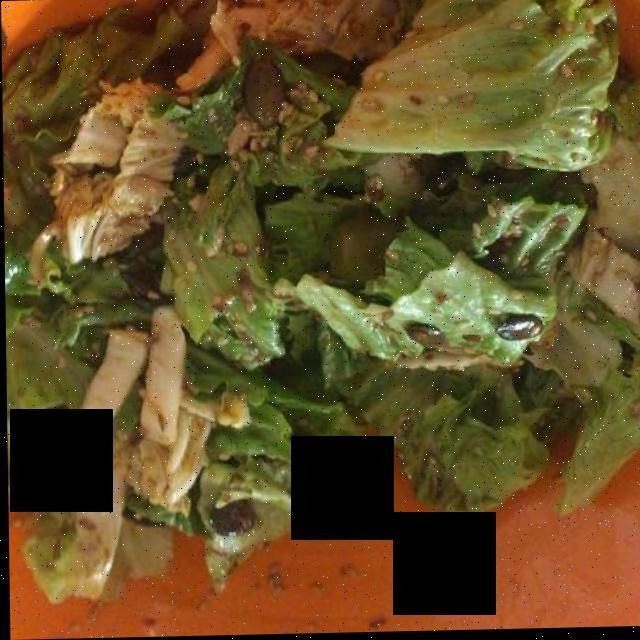salad: (16, 1, 637, 600)
